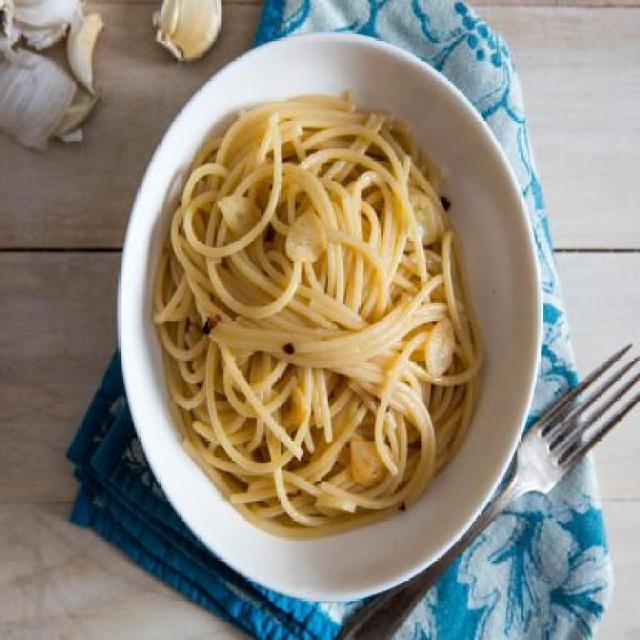Oil pasta: (137, 56, 563, 601)
